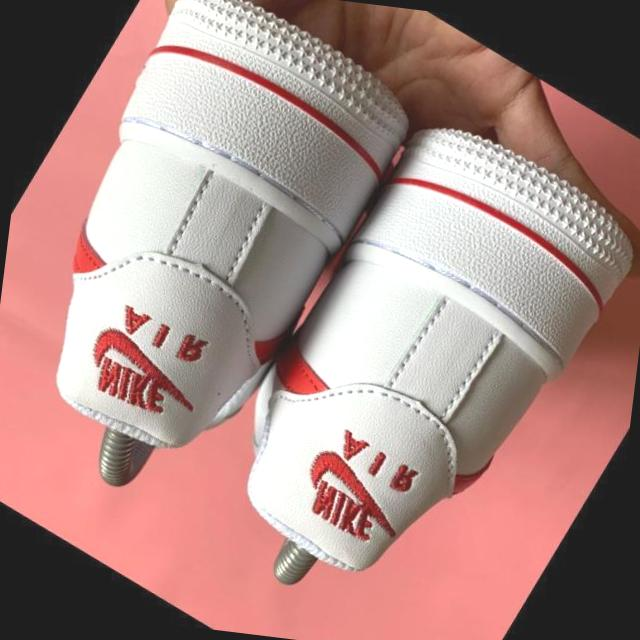nike_fake_airforce: (182, 76, 640, 640), (0, 0, 434, 507)
